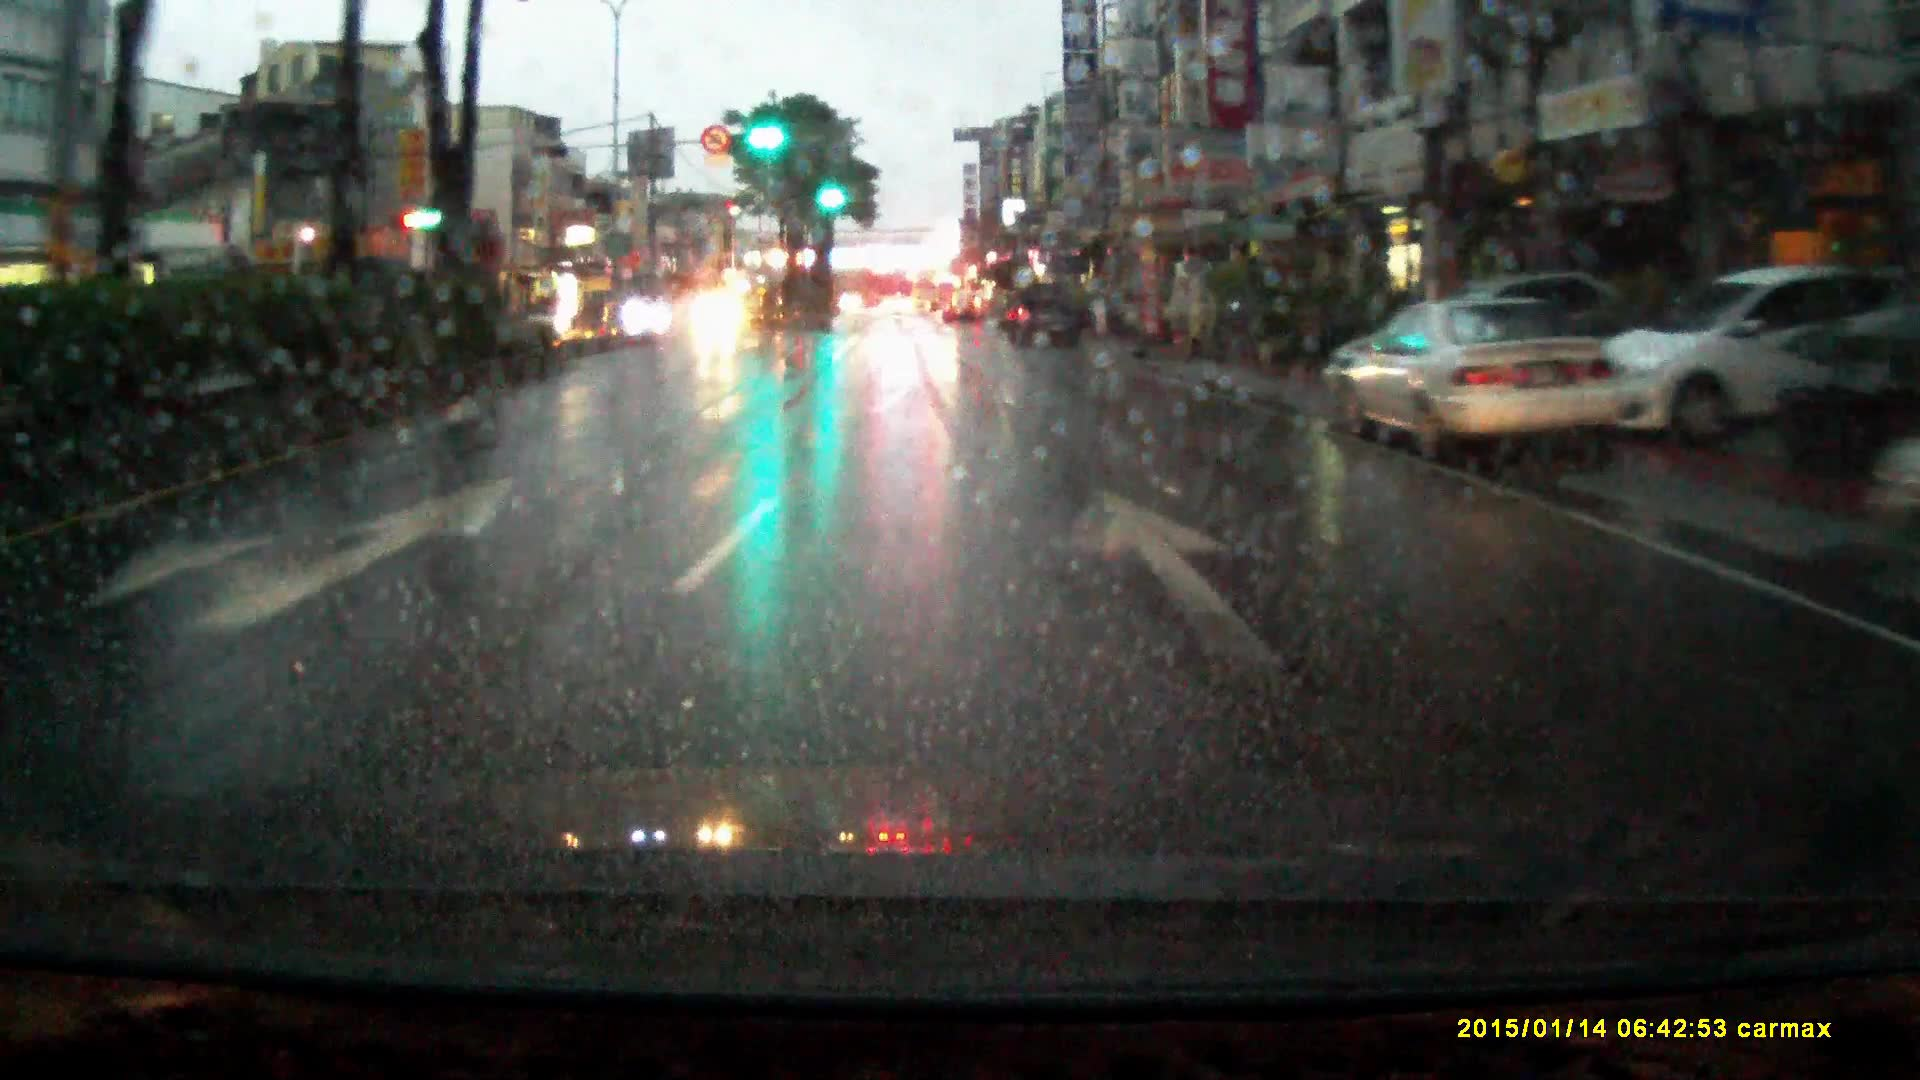vehicle: (1331, 299, 1655, 469), (1615, 266, 1869, 454), (1009, 284, 1087, 353), (684, 291, 750, 348), (615, 301, 666, 340), (913, 270, 942, 316), (943, 293, 980, 326), (882, 298, 916, 320)
